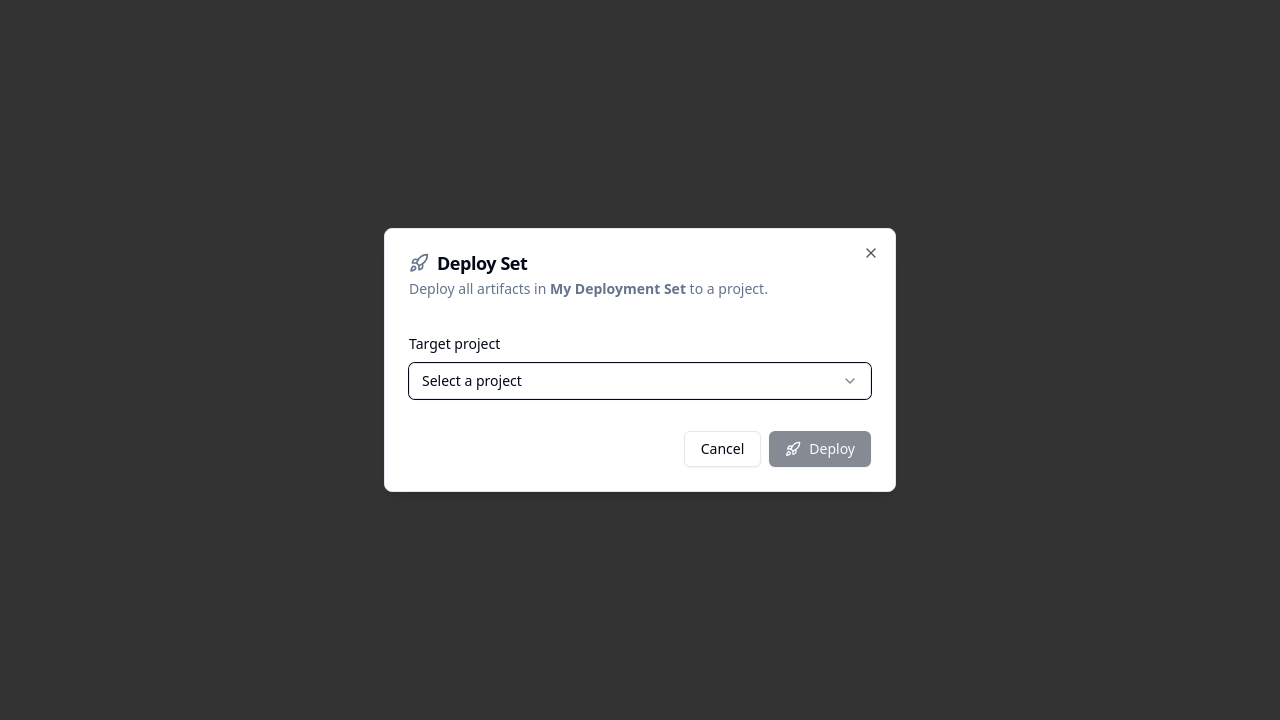
Test: BatchDeployModal › Step 1 — Input form › renders an empty-state message when no projects are returned
Click the dropdown named "select target project": (472, 380) [409, 363, 871, 399]
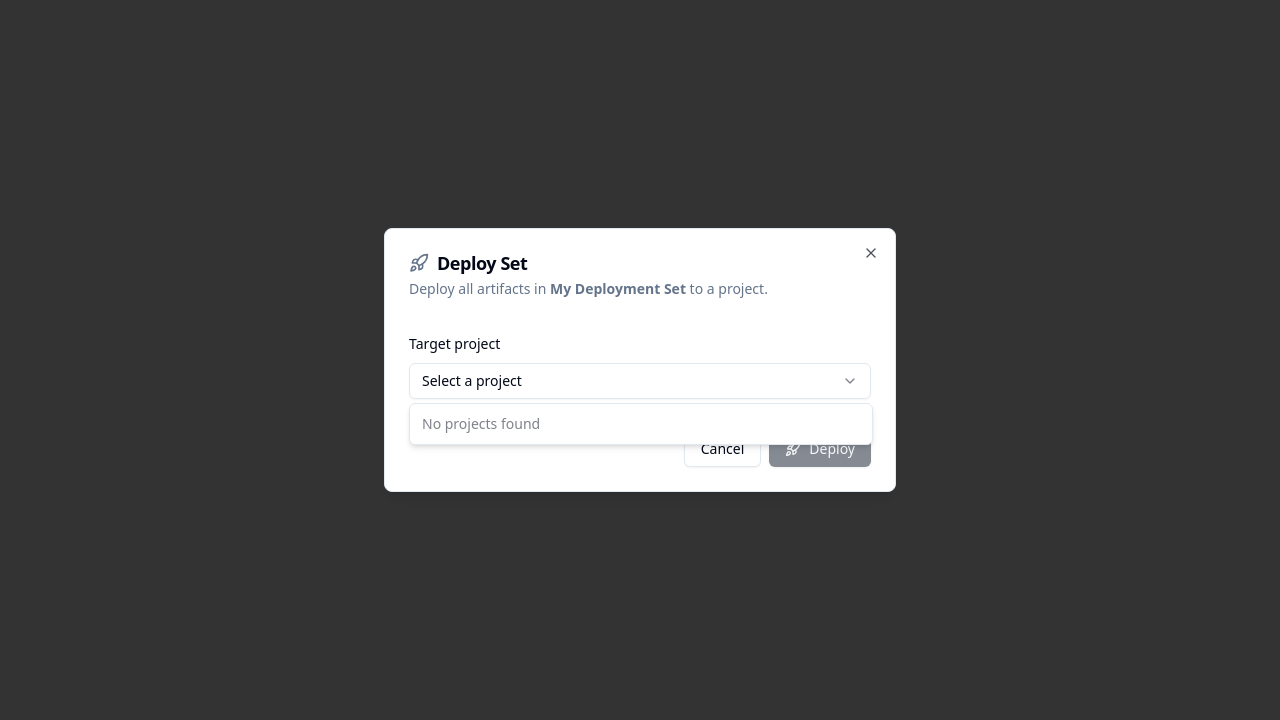
Expected: the text "No projects found" is shown, [422, 414, 540, 434]
